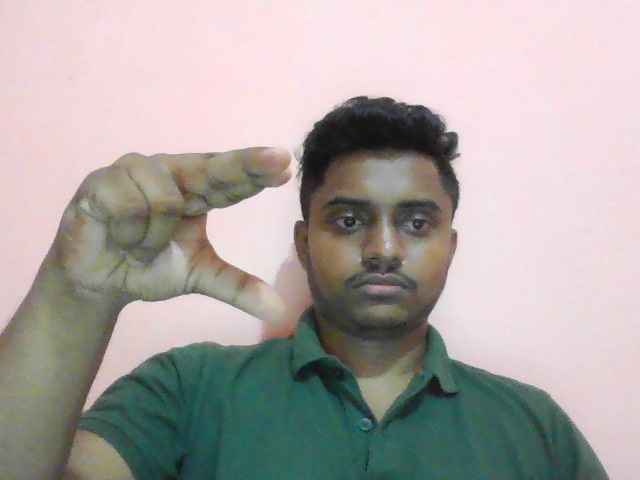No: (52, 140, 294, 328)
